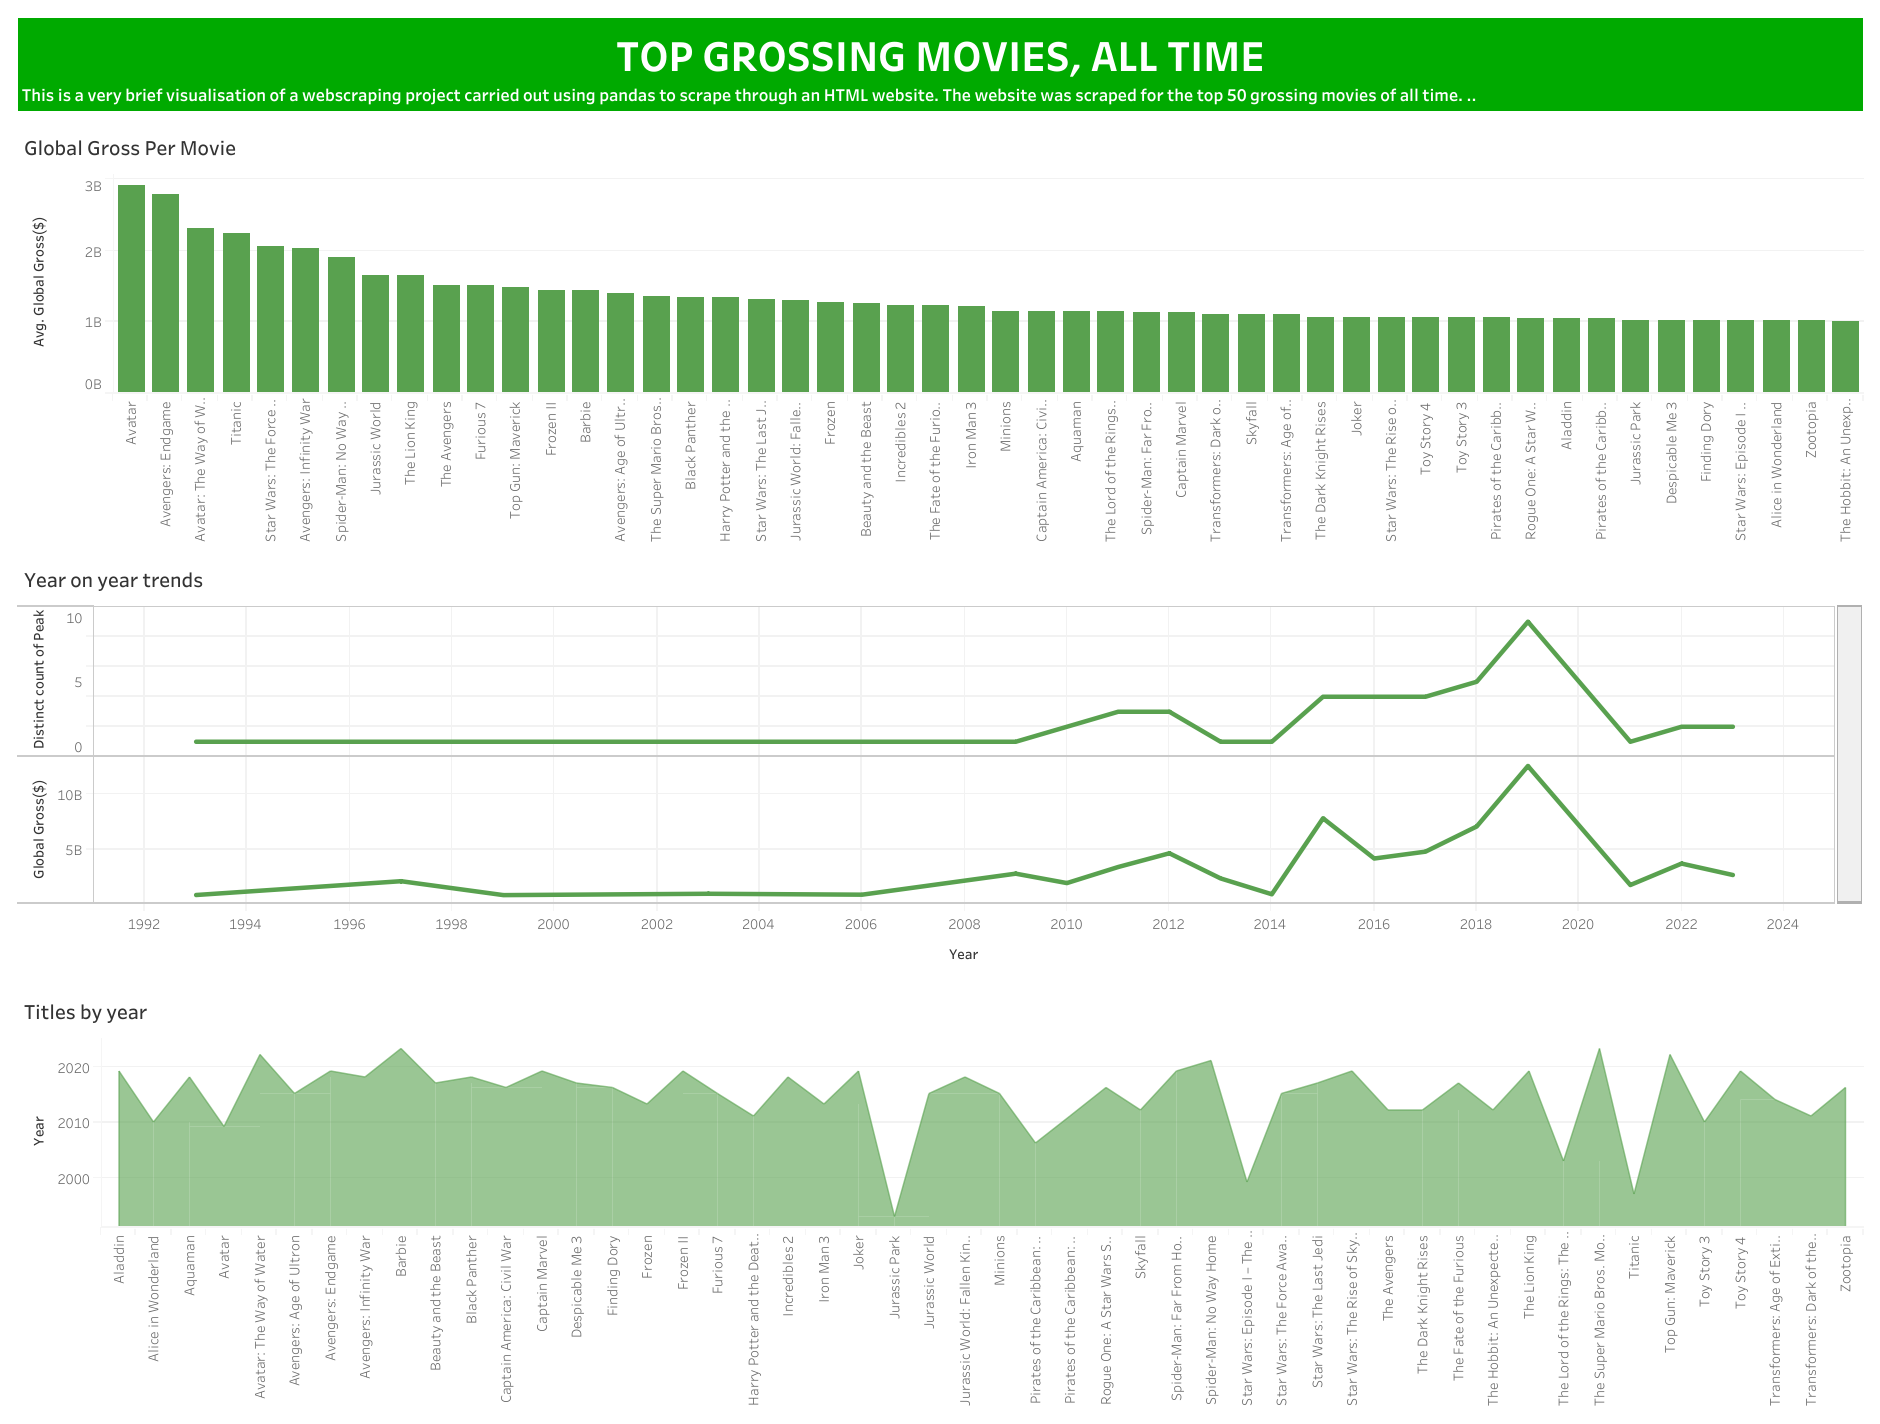

Layout of this report page (visuals, bound fields, positions):
{"tool":"tableau","page":{"name":"Dashboard 1","canvas":[1000,1000],"units":"permille","ordinal":0},"visuals":[{"type":"text","box":[5.2,9.9,989.6,85.6]},{"type":"worksheet","title":"Sheet 1","mark":"Automatic","rows":["Global Gross($)"],"cols":["Title"],"box":[5.2,95.5,989.6,404.5]},{"type":"worksheet","title":"Sheet 2","mark":"Automatic","rows":["Peak","Global Gross($)"],"cols":["Year"],"box":[5.2,500,556.3,490.1]},{"type":"worksheet","title":"Sheet 3","mark":"Area","rows":["Year"],"cols":["Title"],"box":[561.5,500,433.2,490.1]}]}

Visuals, with their boxes on the dashboard's canvas, which has no fixed pixel size, in thousandths of its width and height (x1, y1, x2, y2). These are canvas units, not pixel positions in the 1880x1424 screenshot, which may show the page scaled, cropped or inside an application window:
text: box=[5, 10, 995, 96]
"Sheet 1" worksheet: box=[5, 96, 995, 500]
"Sheet 2" worksheet: box=[5, 500, 562, 990]
"Sheet 3" worksheet (Area marks): box=[562, 500, 995, 990]
